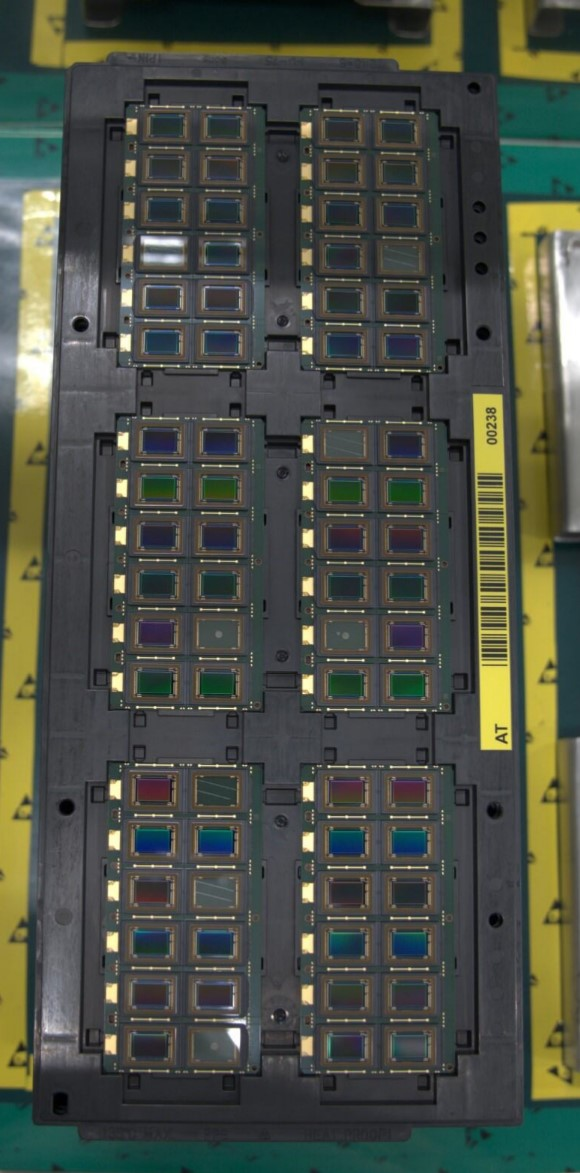Bad_mark_from_BMS_mold: (187, 871, 244, 914), (190, 770, 245, 810), (375, 240, 427, 278), (318, 425, 371, 462)
Bad_mark_from_Maker: (187, 1024, 241, 1067), (320, 614, 375, 654), (192, 612, 245, 653)
